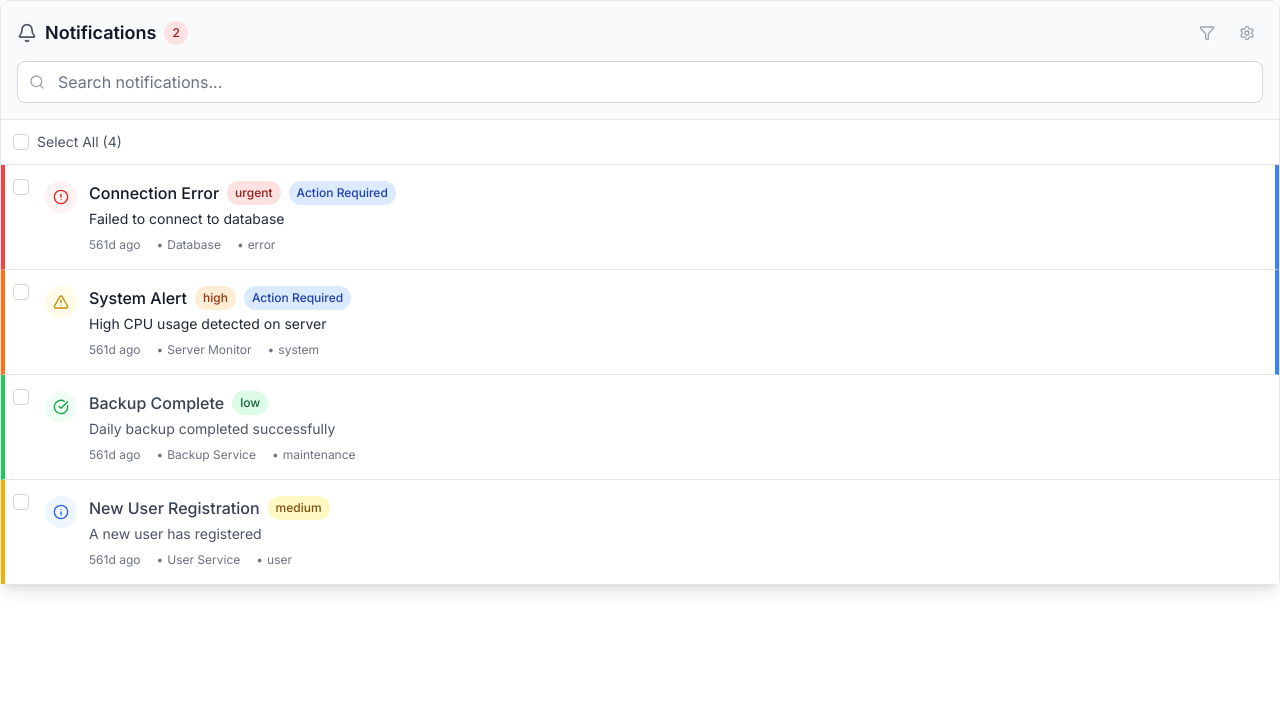
Test: NotificationPanel Component › Search Functionality › searches in notification titles
The image size is (1280, 720).
Type "Connection" into the field with placeholder "Search notifications...".
click(640, 82); type("Connection")  # box 17,61 -> 1263,103
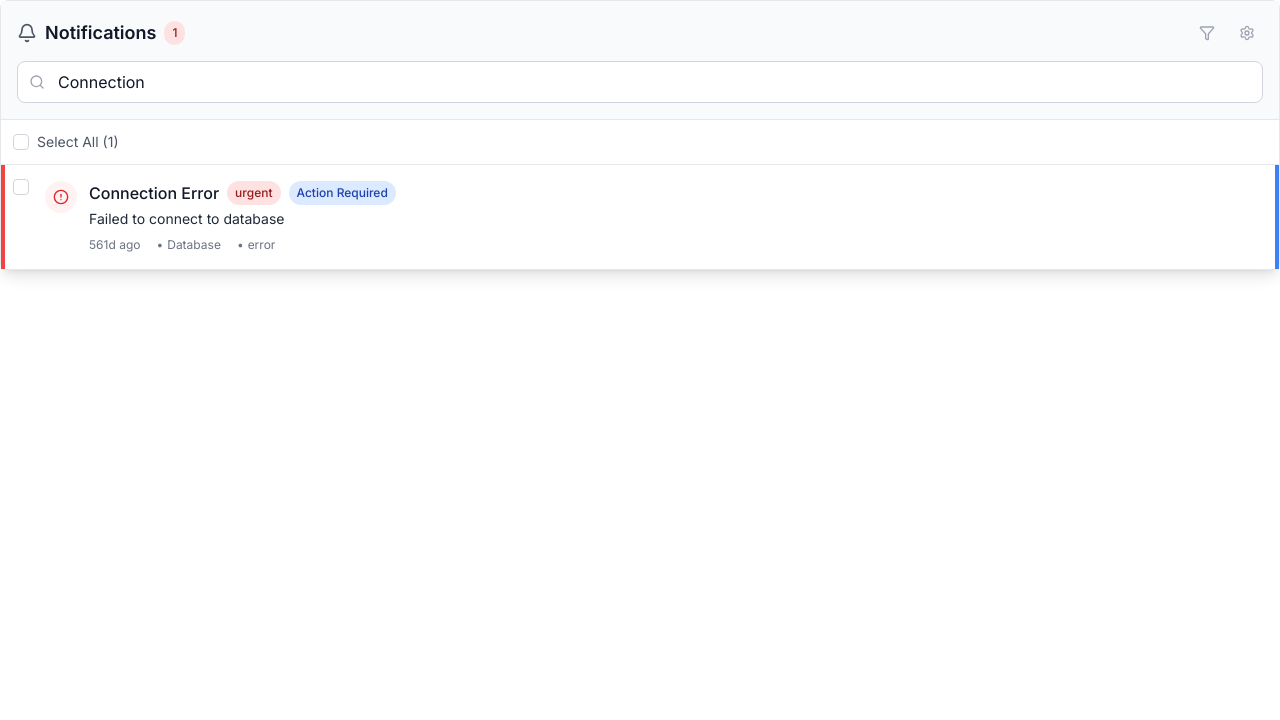
Expected: the heading "Connection Error" is shown, 89,181 -> 219,205
Result: the heading "System Alert" is gone
